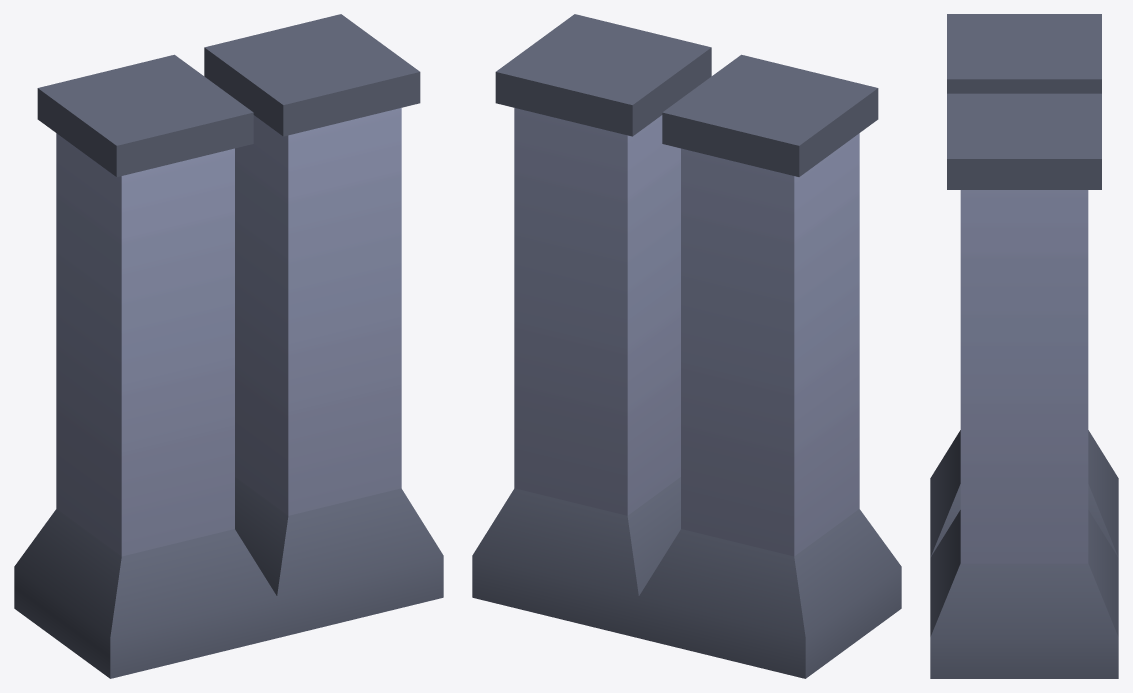
Rendered from obstacle_block_pillars.glb.
3 renders of one model, left to right at view 1: azimuth 30°, elevation 25°; view 2: azimuth 150°, elevation 25°; view 3: azimuth 270°, elevation 25°, orthographic. The views are drawn at different scales.
Parts seen in each view (by area): view 1: bridge-pillar-wide; view 2: bridge-pillar-wide; view 3: bridge-pillar-wide.
Boxes of the visible parts, <box> form: bridge-pillar-wide: <box>14,14,443,678</box>; bridge-pillar-wide: <box>472,14,901,678</box>; bridge-pillar-wide: <box>930,14,1118,678</box>.
Size of the model in its own units: 1.6 by 2.4 by 0.7999.
Materials: 1 (1 with a texture image).
